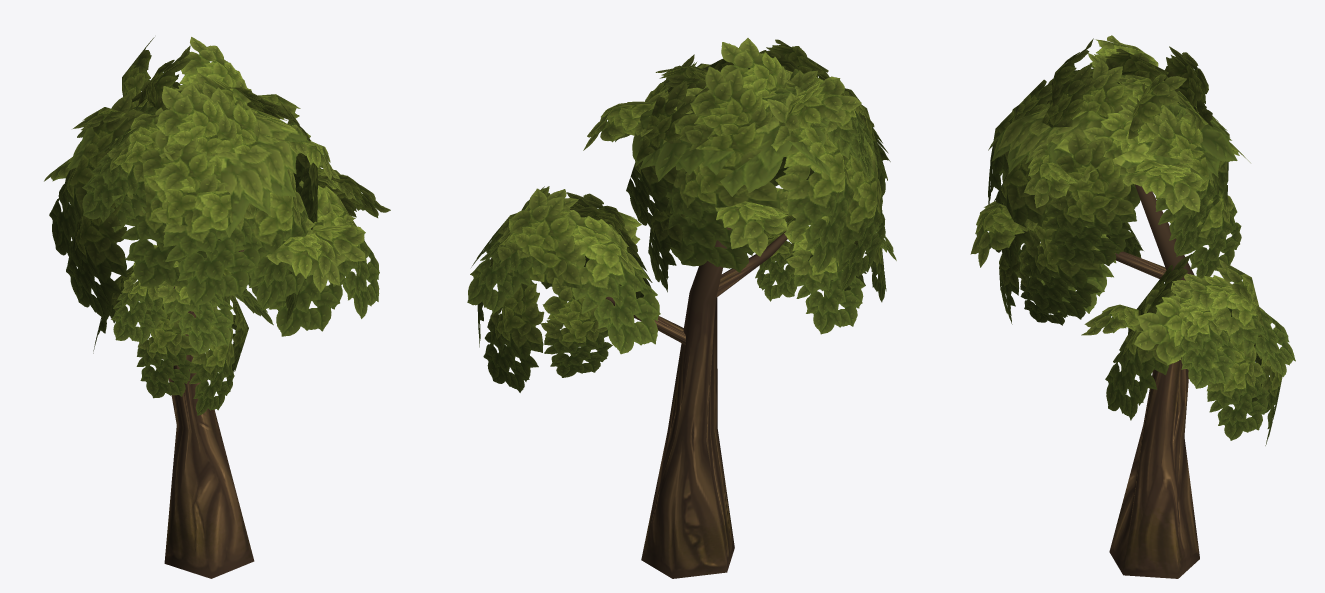
The model's file is tree_leafy_04.fbx.
3 views of the same model, side by side, from view 1: azimuth 30°, elevation 25°; view 2: azimuth 150°, elevation 25°; view 3: azimuth 270°, elevation 25° (orthographic). The views are drawn at different scales.
Visible parts, largest first — view 1: tree_leafy_04; view 2: tree_leafy_04; view 3: tree_leafy_04.
Boxes of the visible parts, x1,y1,x2,y2 form: tree_leafy_04: (44,37,390,578); tree_leafy_04: (467,38,896,578); tree_leafy_04: (970,35,1295,578).
Bounding box in the file's own units: 424 × 590 × 393.
